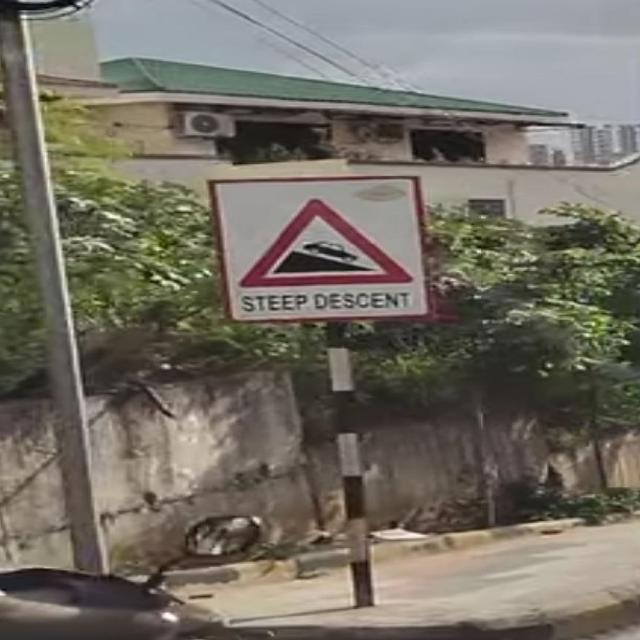steep descent: (233, 191, 415, 289)
